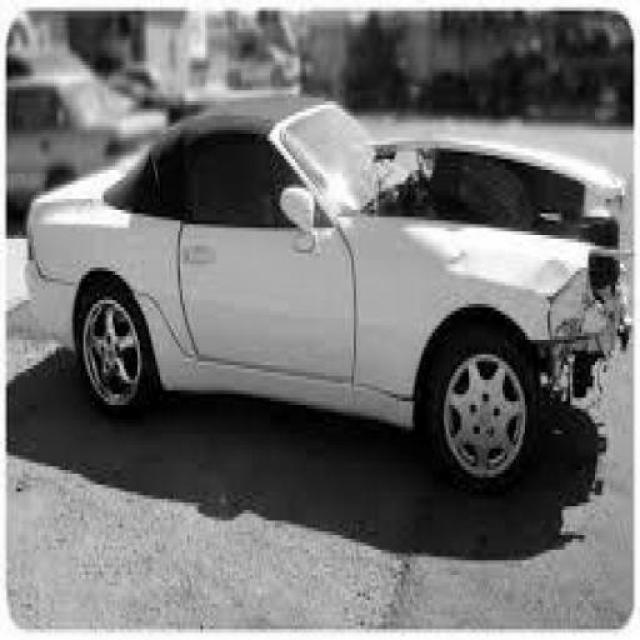crush: (357, 129, 630, 445)
